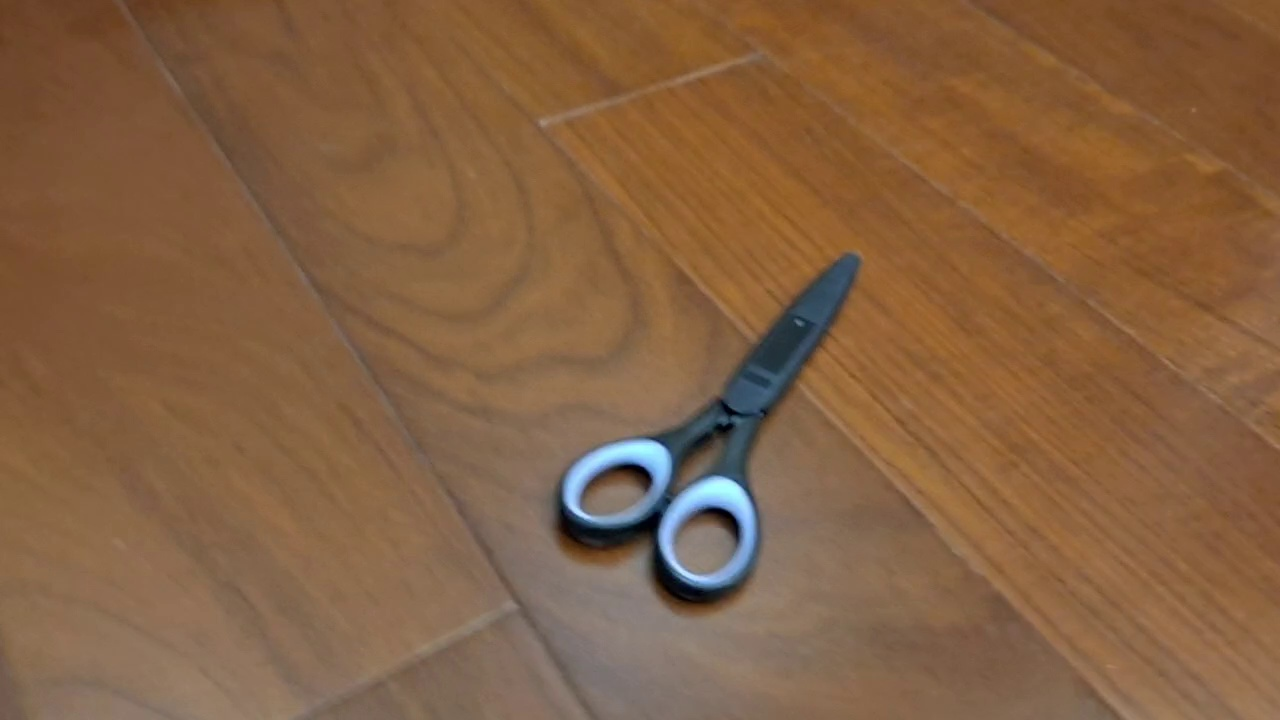scissors: (553, 251, 863, 606)
